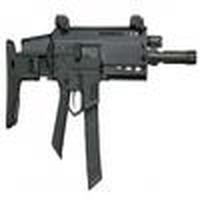gun: (1, 25, 200, 130)
